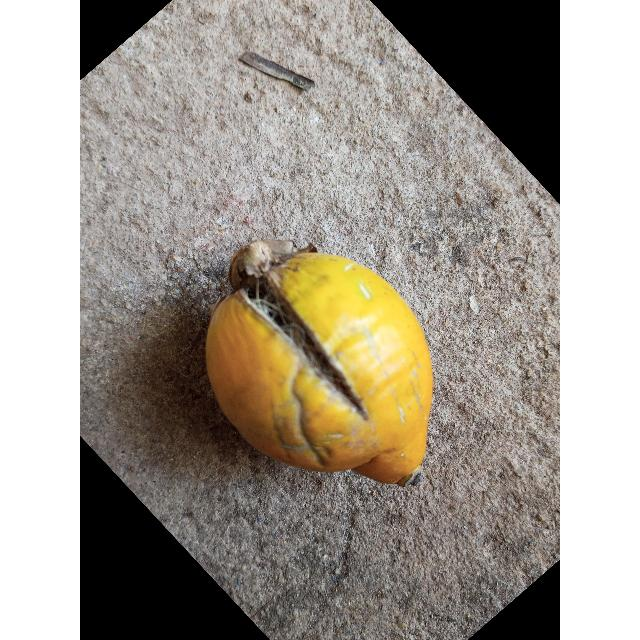damaged: (206, 241, 433, 487)
